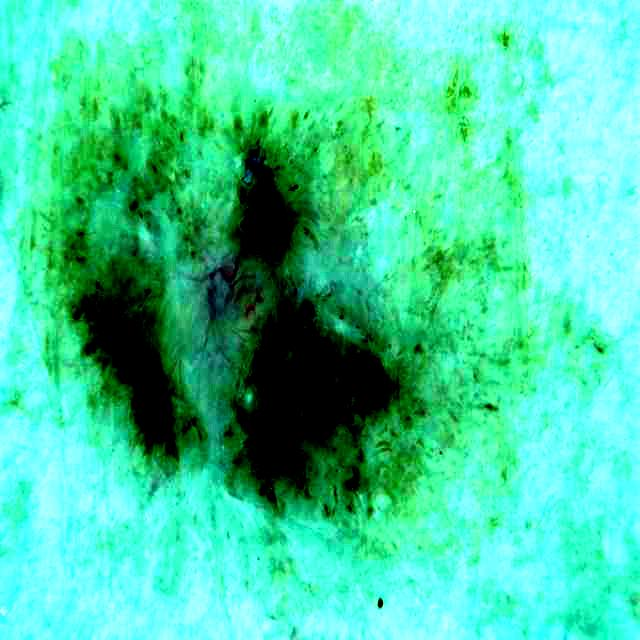BCC: (73, 132, 407, 514)
